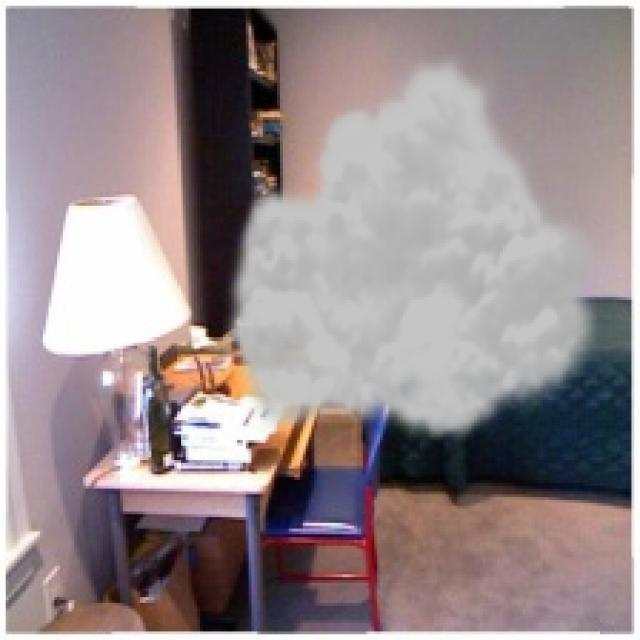smoke: (220, 48, 609, 443)
